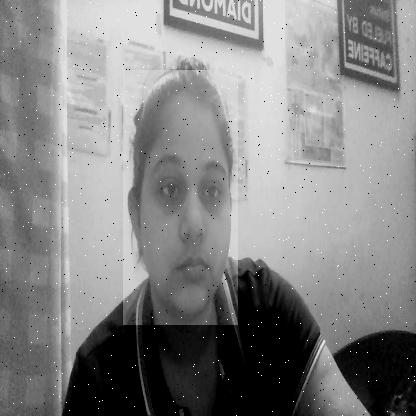Normal: (123, 70, 238, 325)
